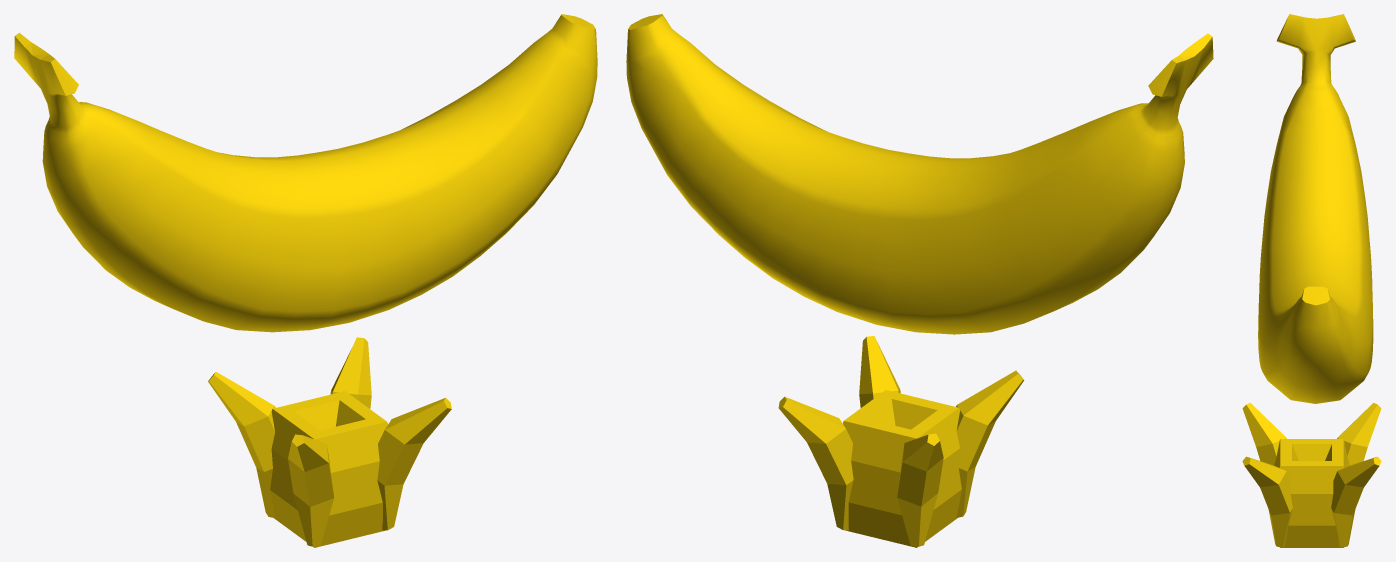
The model's file is Checkpoints.fbx.
3 views of the same model, side by side, from view 1: azimuth 30°, elevation 25°; view 2: azimuth 150°, elevation 25°; view 3: azimuth 270°, elevation 25° (orthographic). The views are drawn at different scales.
Parts seen in each view (by area): view 1: body__dkj_banana, polySurface2859__dkj_banana_base; view 2: body__dkj_banana, polySurface2859__dkj_banana_base; view 3: body__dkj_banana, polySurface2859__dkj_banana_base.
Boxes of the visible parts, bbox=[...] form: body__dkj_banana: bbox=[14, 14, 597, 332]; polySurface2859__dkj_banana_base: bbox=[208, 337, 451, 547]; body__dkj_banana: bbox=[626, 14, 1213, 334]; polySurface2859__dkj_banana_base: bbox=[778, 336, 1024, 547]; body__dkj_banana: bbox=[1258, 14, 1373, 403]; polySurface2859__dkj_banana_base: bbox=[1242, 403, 1381, 547].
Bounding box in the file's own units: 25874 × 24105 × 7349.
